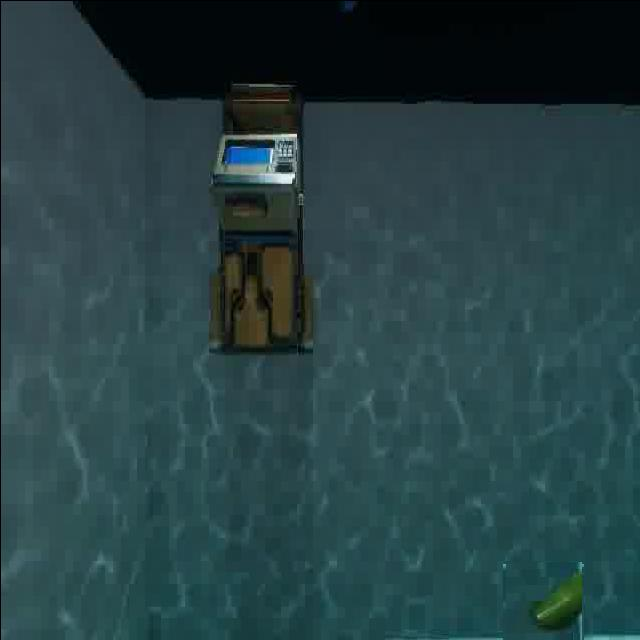Control Panel: (200, 62, 322, 364)
Pipe: (503, 562, 581, 640)
